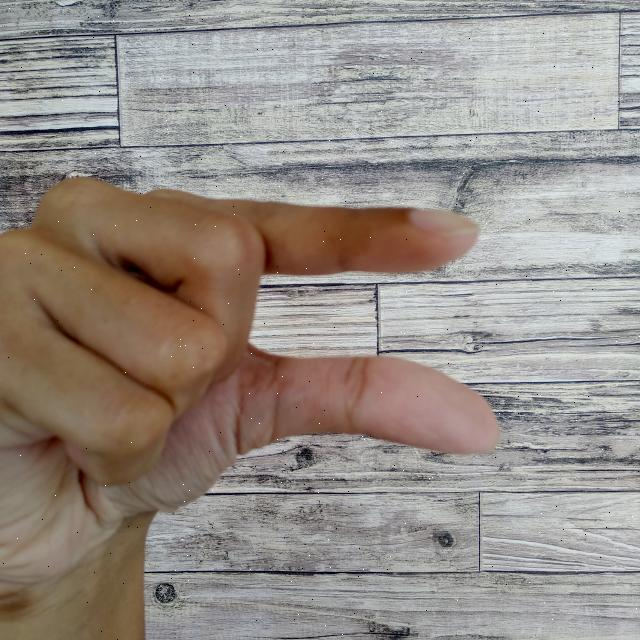G: (0, 176, 506, 640)
